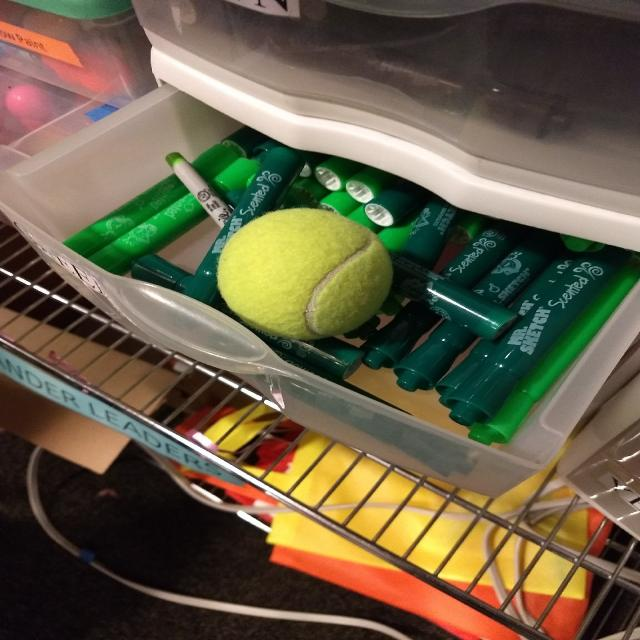Tennis-Ball: (218, 207, 395, 339)
